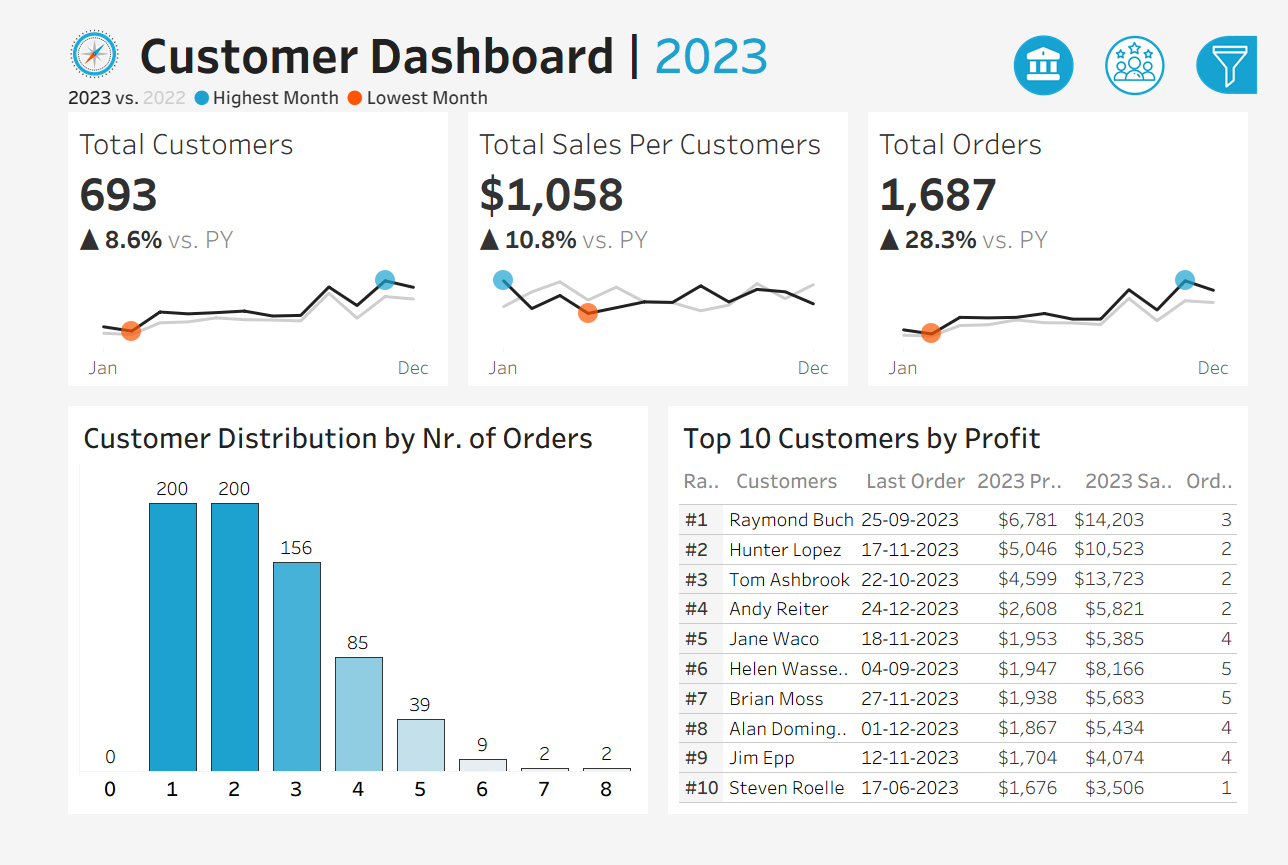

This screenshot's page, from the dashboard's own definition file:
{"tool":"tableau","page":{"name":"Customer Dashboard","canvas":[1200,800],"ordinal":0},"visuals":[{"type":"image","param":"Image/Icon - Logo.png","box":[0,0,73,59]},{"type":"text","box":[73,0,820,59]},{"type":"dashboard-object","box":[940,6,91,70]},{"type":"dashboard-object","box":[1031,6,91,70]},{"type":"blank","box":[952,10,237,86]},{"type":"worksheet","title":"Legend KPI","mark":"Automatic","box":[0,59,1200,29]},{"type":"worksheet","title":"KPI Customers","mark":"Automatic","rows":["Min/Max Quantity (copy)_3221481164588691468"],"cols":["Order Date"],"box":[0,88,400,284]},{"type":"worksheet","title":"KPI Sales Per Customers","mark":"Automatic","rows":["Min/Max Quantity (copy)_3221481164537155591"],"cols":["Order Date"],"box":[400,88,400,284]},{"type":"worksheet","title":"KPI Orders","mark":"Automatic","rows":["Min/Max Sales (copy)_3221481164601258003"],"cols":["Order Date"],"box":[800,88,400,284]},{"type":"text","box":[952,96,237,37]},{"type":"parameter","param":"[Parameters].[Parameter 1]","box":[952,133,237,55]},{"type":"text","box":[952,188,237,32]},{"type":"filter","title":"KPI Customers","param":"[federated.1kpxa041aiai2y1cl4pui1t4eju9].[none:Category:nk]","box":[952,220,237,57]},{"type":"filter","title":"KPI Customers","param":"[federated.1kpxa041aiai2y1cl4pui1t4eju9].[none:Sub-Category:nk]","box":[952,277,237,57]},{"type":"blank","box":[952,334,237,60]},{"type":"text","box":[17,389,566,47]},{"type":"text","box":[617,389,566,47]},{"type":"text","box":[952,394,237,32]},{"type":"filter","title":"KPI Customers","param":"[federated.1kpxa041aiai2y1cl4pui1t4eju9].[none:Region:nk]","box":[952,426,237,57]},{"type":"worksheet","title":"Customer Distribution","mark":"Bar","rows":["CY Sales (copy)_3221481164532666369"],"cols":["Calculation_998110323739992064"],"box":[17,436,566,347]},{"type":"text","box":[617,436,53,40]},{"type":"text","box":[670,436,130,40]},{"type":"text","box":[800,436,111,40]},{"type":"text","box":[911,436,108,40]},{"type":"text","box":[1019,436,101,40]},{"type":"text","box":[1120,436,63,40]},{"type":"worksheet","title":"Top Customers","mark":"Automatic","rows":["Calculation_782500491678904334","Customer Name","Order Date"],"box":[617,476,566,307]},{"type":"filter","title":"KPI Customers","param":"[federated.1kpxa041aiai2y1cl4pui1t4eju9].[none:State:nk]","box":[952,483,237,57]},{"type":"filter","title":"KPI Customers","param":"[federated.1kpxa041aiai2y1cl4pui1t4eju9].[none:City:nk]","box":[952,540,237,57]}]}

Visuals, with their boxes in screenshot pixels (x1, y1, x2, y2), scaled from the page's 1200x800 canvas onto the 1288x865 screenshot:
image: BBox(0, 0, 78, 64)
text: BBox(78, 0, 958, 64)
dashboard-object: BBox(1009, 6, 1107, 82)
dashboard-object: BBox(1107, 6, 1204, 82)
blank: BBox(1022, 11, 1276, 104)
"Legend KPI" worksheet: BBox(0, 64, 1287, 95)
"KPI Customers" worksheet: BBox(0, 95, 429, 402)
"KPI Sales Per Customers" worksheet: BBox(429, 95, 859, 402)
"KPI Orders" worksheet: BBox(859, 95, 1287, 402)
text: BBox(1022, 104, 1276, 144)
parameter: BBox(1022, 144, 1276, 203)
text: BBox(1022, 203, 1276, 238)
"KPI Customers" filter: BBox(1022, 238, 1276, 300)
"KPI Customers" filter: BBox(1022, 300, 1276, 361)
blank: BBox(1022, 361, 1276, 426)
text: BBox(18, 421, 626, 471)
text: BBox(662, 421, 1270, 471)
text: BBox(1022, 426, 1276, 461)
"KPI Customers" filter: BBox(1022, 461, 1276, 522)
"Customer Distribution" worksheet (Bar marks): BBox(18, 471, 626, 847)
text: BBox(662, 471, 719, 515)
text: BBox(719, 471, 859, 515)
text: BBox(859, 471, 978, 515)
text: BBox(978, 471, 1094, 515)
text: BBox(1094, 471, 1202, 515)
text: BBox(1202, 471, 1270, 515)
"Top Customers" worksheet: BBox(662, 515, 1270, 847)
"KPI Customers" filter: BBox(1022, 522, 1276, 584)
"KPI Customers" filter: BBox(1022, 584, 1276, 646)
